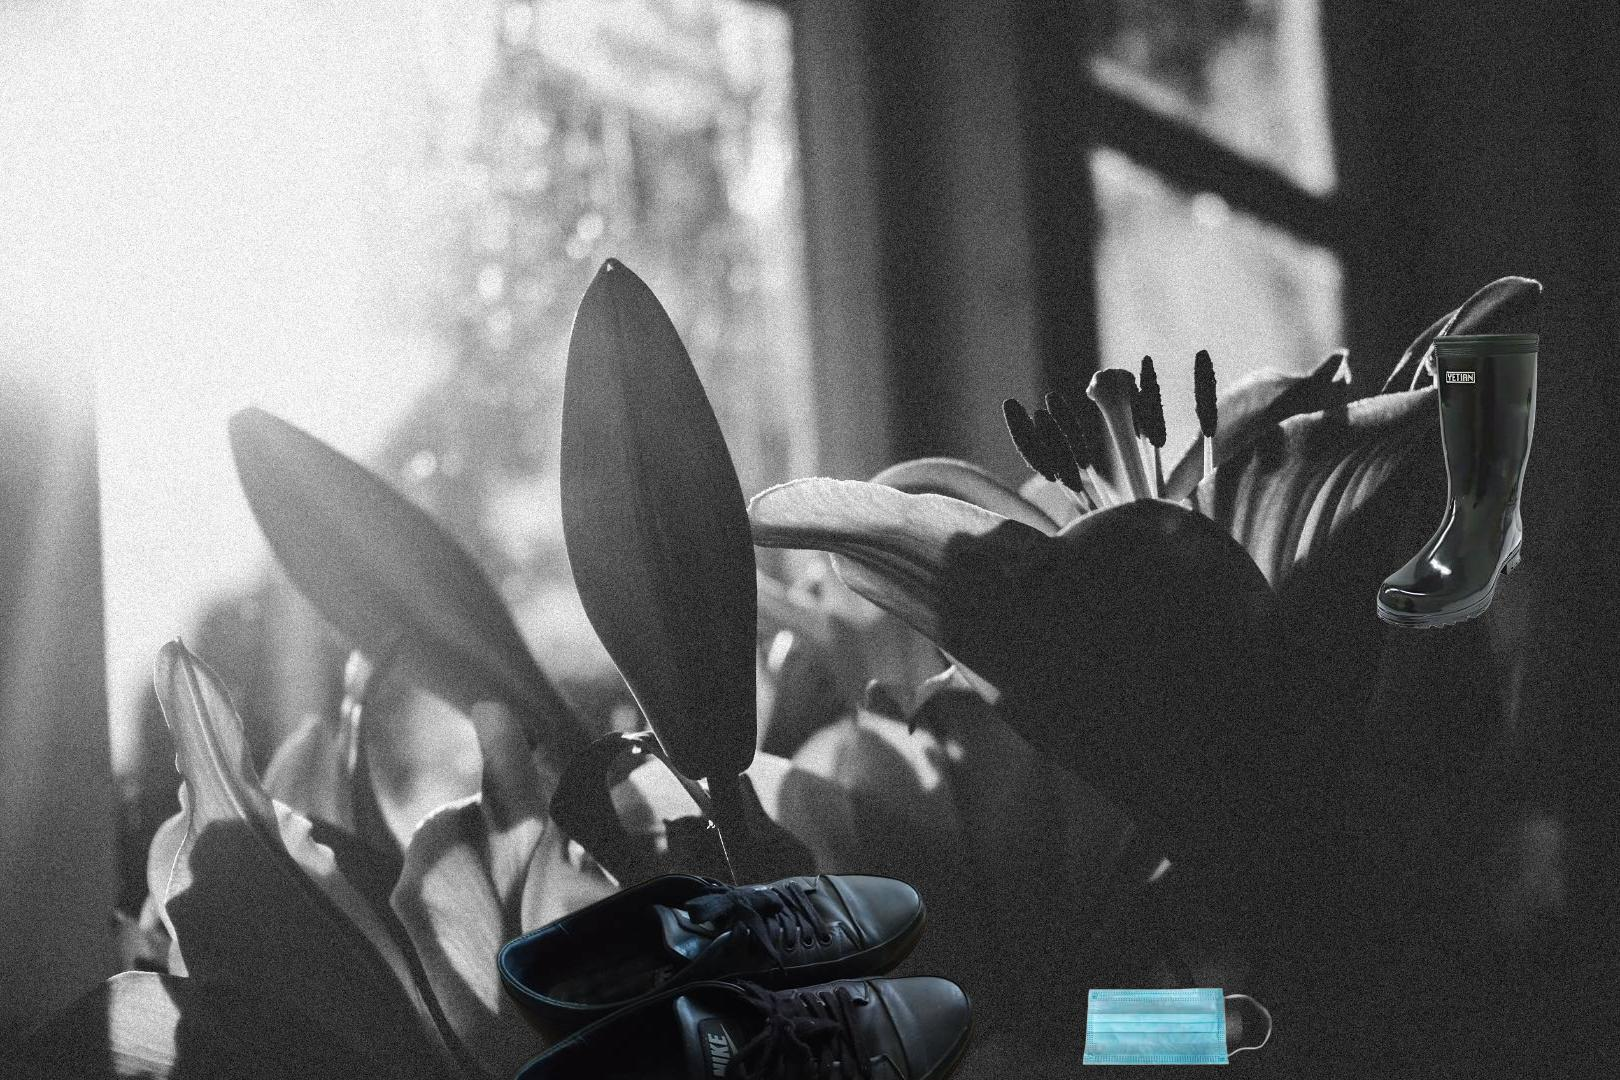shoes: (491, 870, 1147, 1080), (1374, 333, 1542, 630)
trash: (1047, 985, 1272, 1068)
